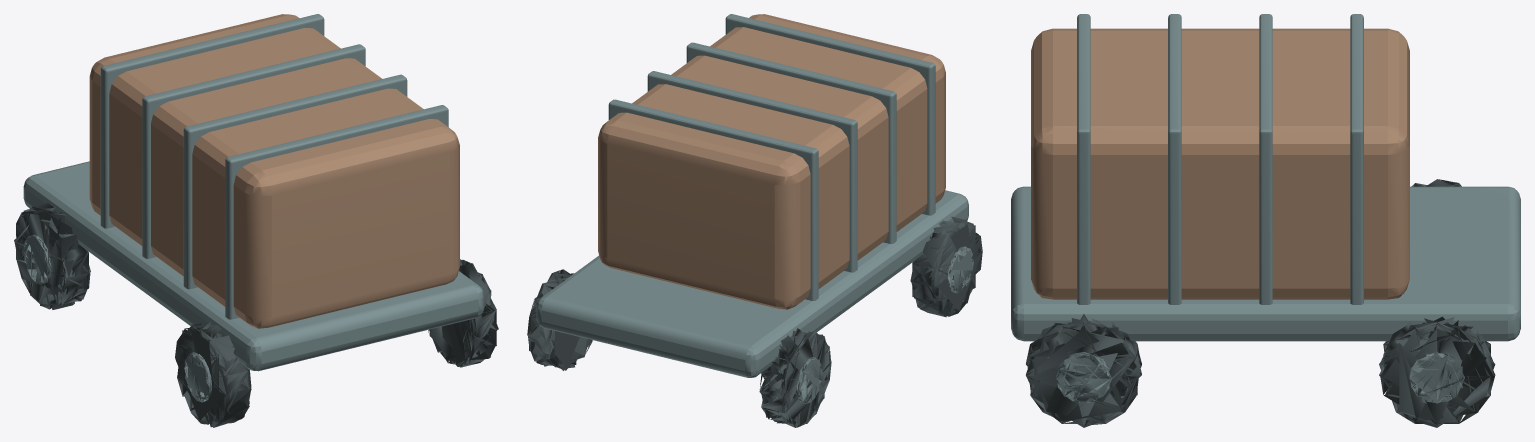
File: rail_wagon.glb
3 renders of one model, left to right at view 1: azimuth 30°, elevation 25°; view 2: azimuth 150°, elevation 25°; view 3: azimuth 270°, elevation 25°, orthographic. The views are drawn at different scales.
Visible parts, largest first — view 1: Surface_WorldRust, Surface_WorldMetal, Wheel.001, Wheel, Wheel.002, Hub.001, Hub; view 2: Surface_WorldRust, Surface_WorldMetal, Wheel, Wheel.001, Wheel.003, Hub.001, Hub; view 3: Surface_WorldRust, Surface_WorldMetal, Wheel.003, Wheel.002, Hub.002, Hub.003.
Boxes of the visible parts, x1,y1,x2,y2 form: Surface_WorldRust: (89,14,459,328); Surface_WorldMetal: (23,14,484,371); Wheel.001: (14,203,90,309); Wheel: (175,321,251,427); Wheel.002: (428,259,498,367); Hub.001: (23,234,51,284); Hub: (184,352,212,402); Surface_WorldRust: (598,14,945,309); Surface_WorldMetal: (536,14,968,377); Wheel: (910,216,982,317); Wheel.001: (759,328,831,427); Wheel.003: (527,269,592,370); Hub.001: (796,357,822,403); Hub: (947,246,973,293); Surface_WorldRust: (1031,28,1409,299); Surface_WorldMetal: (1011,14,1520,341); Wheel.003: (1379,316,1495,427); Wheel.002: (1026,314,1141,427); Hub.002: (1056,352,1111,403); Hub.003: (1409,352,1464,403).
Size of the model in its own units: 1.95 by 1.72 by 2.8.
